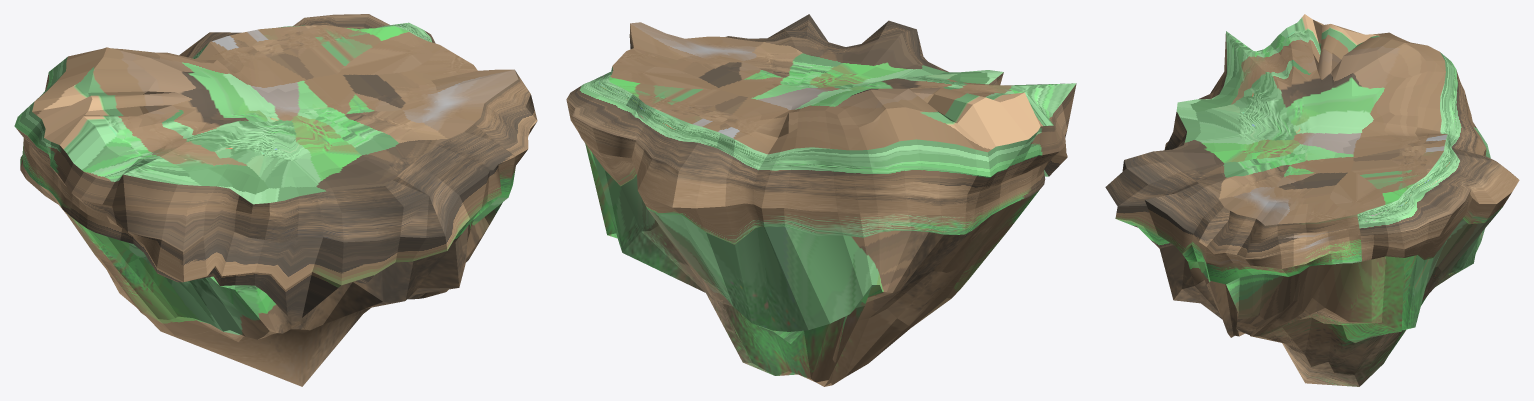
3 renders of one model, left to right at view 1: azimuth 30°, elevation 25°; view 2: azimuth 150°, elevation 25°; view 3: azimuth 270°, elevation 25°, orthographic. The views are drawn at different scales.
Parts seen in each view (by area): view 1: pCylinder4; view 2: pCylinder4; view 3: pCylinder4.
Part boxes in pixels (x1,y1,x2,y2): pCylinder4: (14, 14, 537, 386); pCylinder4: (566, 14, 1076, 386); pCylinder4: (1105, 14, 1519, 386).
Size of the model in its own units: 28687 by 20331 by 26956.
1 material, 1 textured.
